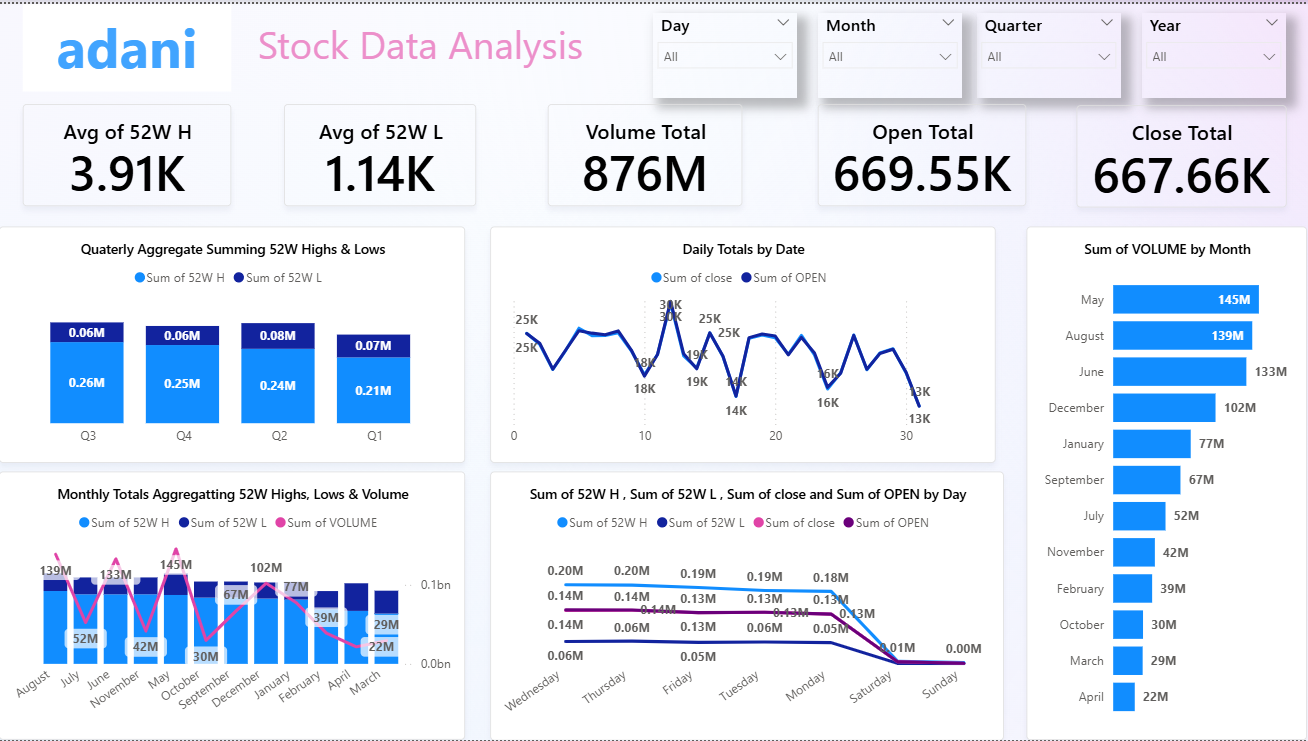

The dashboard page shown, as its layout file describes it:
{"tool":"powerbi","page":{"name":"Page 1","canvas":[1280,720],"ordinal":0},"visuals":[{"type":"slicer","fields":{"Values":["ADANI ENTERPRISES LIMITED.Day"]},"box":[639.5,8.6,141.8,83.2],"z":0},{"type":"slicer","fields":{"Values":["ADANI ENTERPRISES LIMITED.Month"]},"box":[801,8.6,141.8,83.2],"z":1000},{"type":"slicer","fields":{"Values":["ADANI ENTERPRISES LIMITED.Quarter"]},"box":[956.3,8.6,141.8,83.2],"z":2000},{"type":"slicer","fields":{"Values":["ADANI ENTERPRISES LIMITED.Year"]},"box":[1117.7,8.6,141.8,83.2],"z":3000},{"type":"card","title":"Avg of 52W H","fields":{"Values":["Avg(ADANI ENTERPRISES LIMITED.52W H )"]},"box":[23.2,97.8,204.2,100.3],"z":4000},{"type":"card","title":"Avg of 52W L","fields":{"Values":["Avg(ADANI ENTERPRISES LIMITED.52W L )"]},"box":[278.8,97.8,188.3,100.3],"z":5000},{"type":"card","title":"Close Total","fields":{"Values":["Sum(ADANI ENTERPRISES LIMITED.close )"]},"box":[1054.1,99,205.4,100.3],"z":6000},{"type":"card","title":"Open Total","fields":{"Values":["Sum(ADANI ENTERPRISES LIMITED.OPEN )"]},"box":[801,97.8,204.2,100.3],"z":7000},{"type":"card","title":"Volume Total","fields":{"Values":["Sum(ADANI ENTERPRISES LIMITED.VOLUME )"]},"box":[536.8,97.8,190.8,100.3],"z":8000},{"type":"columnChart","title":"Quaterly Aggregate Summing 52W Highs & Lows","fields":{"Y":["Sum(ADANI ENTERPRISES LIMITED.52W H )","Sum(ADANI ENTERPRISES LIMITED.52W L )"],"Category":["ADANI ENTERPRISES LIMITED.Quarter"]},"box":[0,217.9,455.9,230.8],"z":9000},{"type":"lineStackedColumnComboChart","title":"Monthly Totals Aggregatting 52W Highs, Lows & Volume","fields":{"Y":["Sum(ADANI ENTERPRISES LIMITED.52W H )","Sum(ADANI ENTERPRISES LIMITED.52W L )"],"Category":["ADANI ENTERPRISES LIMITED.Month"],"Y2":["Sum(ADANI ENTERPRISES LIMITED.VOLUME )"]},"box":[0,457.4,455.9,262.6],"z":10000},{"type":"lineChart","title":"Daily Totals by Date ","fields":{"Y":["Sum(ADANI ENTERPRISES LIMITED.close )","Sum(ADANI ENTERPRISES LIMITED.OPEN )"],"Category":["ADANI ENTERPRISES LIMITED.Date .Variation.Date Hierarchy.Day"]},"box":[480.6,217.7,494,231.1],"z":11000},{"type":"lineChart","fields":{"Y":["Sum(ADANI ENTERPRISES LIMITED.52W H )","Sum(ADANI ENTERPRISES LIMITED.52W L )","Sum(ADANI ENTERPRISES LIMITED.close )","Sum(ADANI ENTERPRISES LIMITED.OPEN )"],"Category":["ADANI ENTERPRISES LIMITED.Day"]},"box":[480.6,457.3,502.6,262.9],"z":12000},{"type":"clusteredBarChart","fields":{"Category":["ADANI ENTERPRISES LIMITED.Month"],"Y":["Sum(ADANI ENTERPRISES LIMITED.VOLUME )"]},"box":[1005.6,217.9,274.1,502.1],"z":13000},{"type":"textbox","box":[23.2,0,204.2,85.6],"z":14000},{"type":"textbox","box":[248.2,8.6,342.4,67.3],"z":15000}]}

Visuals, with their boxes in screenshot pixels (x1, y1, x2, y2), scaled from the page's 1280x720 canvas onto the 1308x741 screenshot:
slicer - ADANI ENTERPRISES LIMITED.Day: select_region(653, 9, 798, 94)
slicer - ADANI ENTERPRISES LIMITED.Month: select_region(819, 9, 963, 94)
slicer - ADANI ENTERPRISES LIMITED.Quarter: select_region(977, 9, 1122, 94)
slicer - ADANI ENTERPRISES LIMITED.Year: select_region(1142, 9, 1287, 94)
"Avg of 52W H" card: select_region(24, 101, 232, 204)
"Avg of 52W L" card: select_region(285, 101, 477, 204)
"Close Total" card: select_region(1077, 102, 1287, 205)
"Open Total" card: select_region(819, 101, 1027, 204)
"Volume Total" card: select_region(549, 101, 744, 204)
"Quaterly Aggregate Summing 52W Highs & Lows" columnChart: select_region(0, 224, 466, 462)
"Monthly Totals Aggregatting 52W Highs, Lows & Volume" lineStackedColumnComboChart: select_region(0, 471, 466, 740)
"Daily Totals by Date " lineChart: select_region(491, 224, 996, 462)
lineChart - Sum(ADANI ENTERPRISES LIMITED.52W H ) x Sum(ADANI ENTERPRISES LIMITED.52W L ): select_region(491, 471, 1005, 740)
clusteredBarChart - ADANI ENTERPRISES LIMITED.Month x Sum(ADANI ENTERPRISES LIMITED.VOLUME ): select_region(1028, 224, 1307, 740)
textbox: select_region(24, 0, 232, 88)
textbox: select_region(254, 9, 604, 78)
